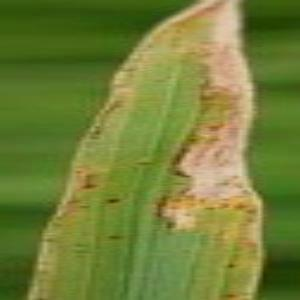2 BacterialBlight: (74, 4, 261, 298)
